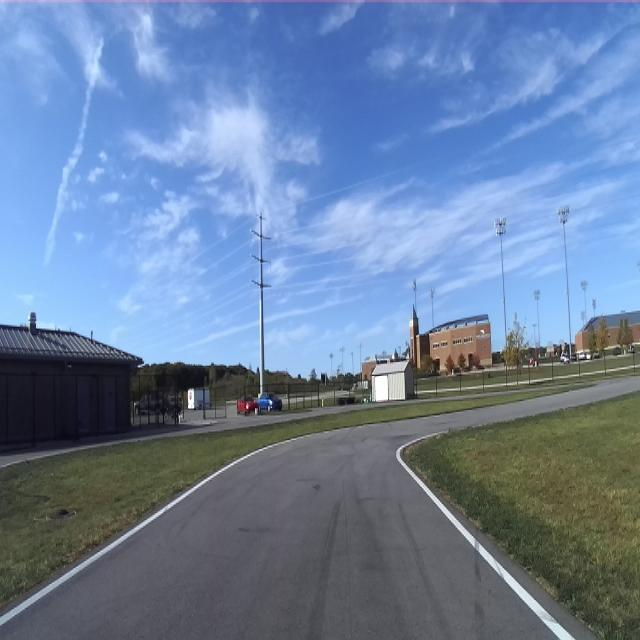white-line: (0, 434, 312, 627), (396, 433, 575, 639)
